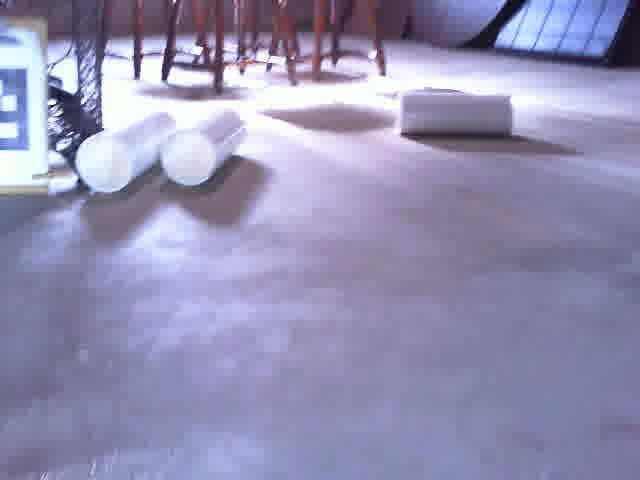coral: (402, 97, 512, 134)
